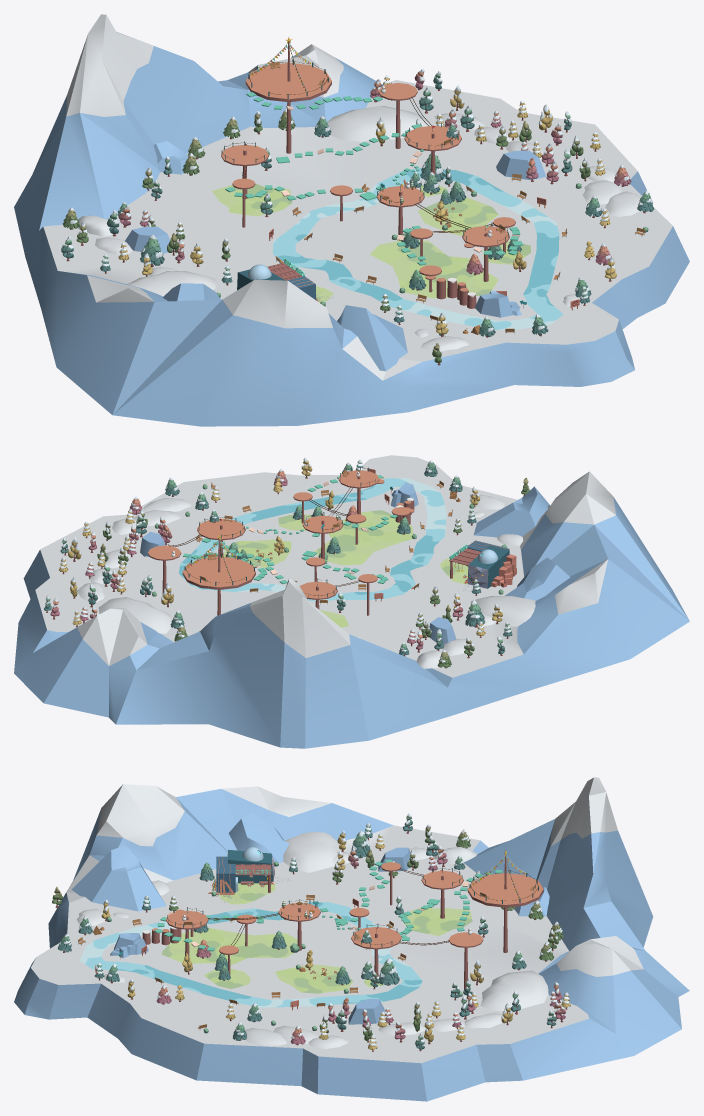
File: Individual_ObbyLobby_01.fbx
The picture shows the model from 3 angles, top to bottom: view 1: azimuth 30°, elevation 25°; view 2: azimuth 150°, elevation 25°; view 3: azimuth 270°, elevation 25°; orthographic projection. The views are drawn at different scales.
Visible parts, largest first — view 1: pCylinder1, pCylinder16, pasted__Object_IceRock8, pasted__SnowPatch12, pasted__Object_Box20, pasted__SnowPatch11, pCylinder30, pasted__Object_IceRock12, pCylinder4, pCylinder15, pCylinder29, pasted__Object_IceRock4 (+6 smaller); view 2: pCylinder1, pasted__Object_Box20, pasted__Object_IceRock8, pCylinder16, pasted__Object_IceRock4, pasted__SnowPatch11, pasted__SnowPatch12, pCylinder30, pCylinder4, pCylinder15, pCylinder29, pCylinder31 (+2 smaller); view 3: pCylinder1, pasted__Object_IceRock8, pasted__Object_Box20, pCylinder16, pasted__SnowPatch12, pasted__SnowPatch11, pasted__Object_IceRock4, pCylinder30, pCylinder29, pCylinder15, pCylinder4, pasted__Object_IceRock12 (+2 smaller).
Boxes of the visible parts, x1,y1,x2,y2 form: pCylinder1: (14,14,689,426); pCylinder16: (245,42,331,153); pasted__Object_IceRock8: (337,305,407,371); pasted__SnowPatch12: (327,106,432,141); pasted__Object_Box20: (237,257,333,306); pasted__SnowPatch11: (127,271,216,296); pCylinder30: (404,125,461,175); pasted__Object_IceRock12: (496,150,546,180); pCylinder4: (462,226,509,281); pCylinder15: (376,186,424,234); pCylinder29: (221,145,268,199); pasted__Object_IceRock4: (163,283,220,301); pCylinder1: (14,455,689,748); pasted__Object_Box20: (449,540,516,591); pasted__Object_IceRock8: (473,486,549,537); pCylinder16: (182,539,255,615); pasted__Object_IceRock4: (505,557,570,600); pasted__SnowPatch11: (470,596,535,626); pasted__SnowPatch12: (98,597,172,633); pCylinder30: (197,518,245,556); pCylinder4: (338,470,379,514); pCylinder15: (302,515,343,558); pCylinder29: (299,581,337,609); pCylinder31: (148,545,181,593); pCylinder1: (14,777,689,1101); pasted__Object_IceRock8: (71,845,166,911); pasted__Object_Box20: (208,847,290,902); pCylinder16: (467,855,543,952); pasted__SnowPatch12: (480,970,548,1010); pasted__SnowPatch11: (283,831,340,872); pasted__Object_IceRock4: (228,812,289,862); pCylinder30: (351,927,401,983); pCylinder29: (421,870,463,918); pCylinder15: (278,903,320,950); pCylinder4: (166,910,208,958); pasted__Object_IceRock12: (348,999,384,1024).
Size of the model in its own units: 11555 by 2923 by 12005.
